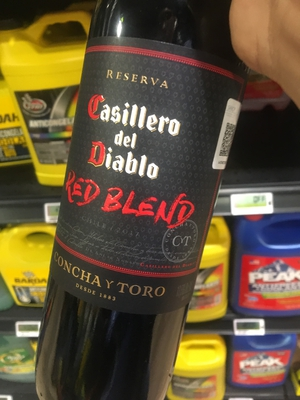casillero del diablo red blend: (46, 17, 248, 380)
